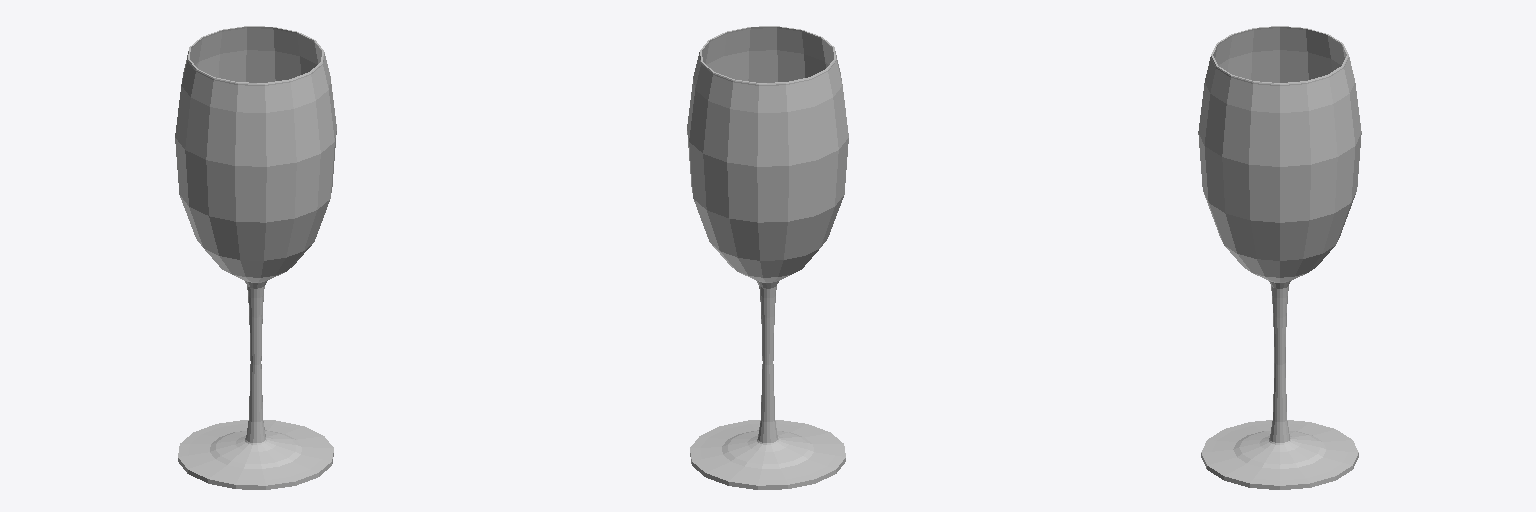
The model's file is wine2.obj.
3 views of the same model, side by side, from view 1: azimuth 30°, elevation 25°; view 2: azimuth 150°, elevation 25°; view 3: azimuth 270°, elevation 25° (orthographic).
Parts seen in each view (by area): view 1: Circle; view 2: Circle; view 3: Circle.
Part boxes in pixels (x1,y1,x2,y2): Circle: (175,26,336,489); Circle: (687,26,848,489); Circle: (1198,26,1361,489).
Size of the model in its own units: 0.3598 by 0.9772 by 0.3598.